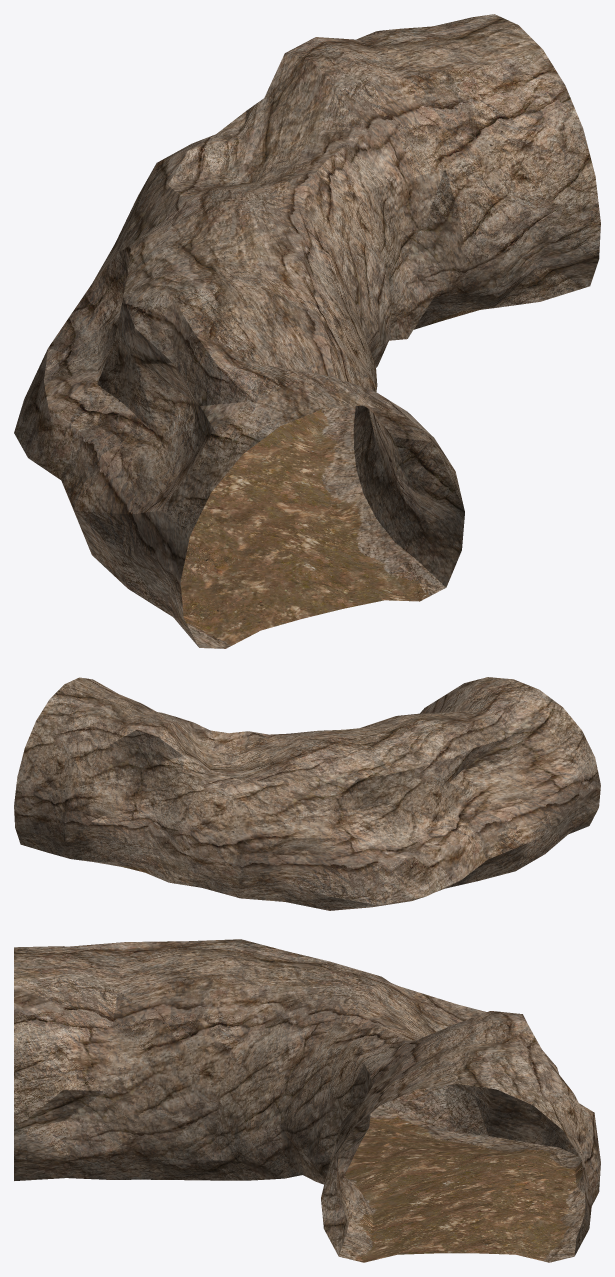
The model's file is CaveCorridorTurnRightUp.obj.
3 views of the same model, one above another, from view 1: azimuth 30°, elevation 25°; view 2: azimuth 150°, elevation 25°; view 3: azimuth 270°, elevation 25° (orthographic). The views are drawn at different scales.
Visible parts, largest first — view 1: CaveCorridorTurnRightUp; view 2: CaveCorridorTurnRightUp; view 3: CaveCorridorTurnRightUp.
Part boxes in pixels (left/top/right/bottom): CaveCorridorTurnRightUp: left=14, top=14, right=600, bottom=648; CaveCorridorTurnRightUp: left=14, top=677, right=600, bottom=910; CaveCorridorTurnRightUp: left=14, top=939, right=600, bottom=1262.
Size of the model in its own units: 6.8 by 3.12 by 6.9.
